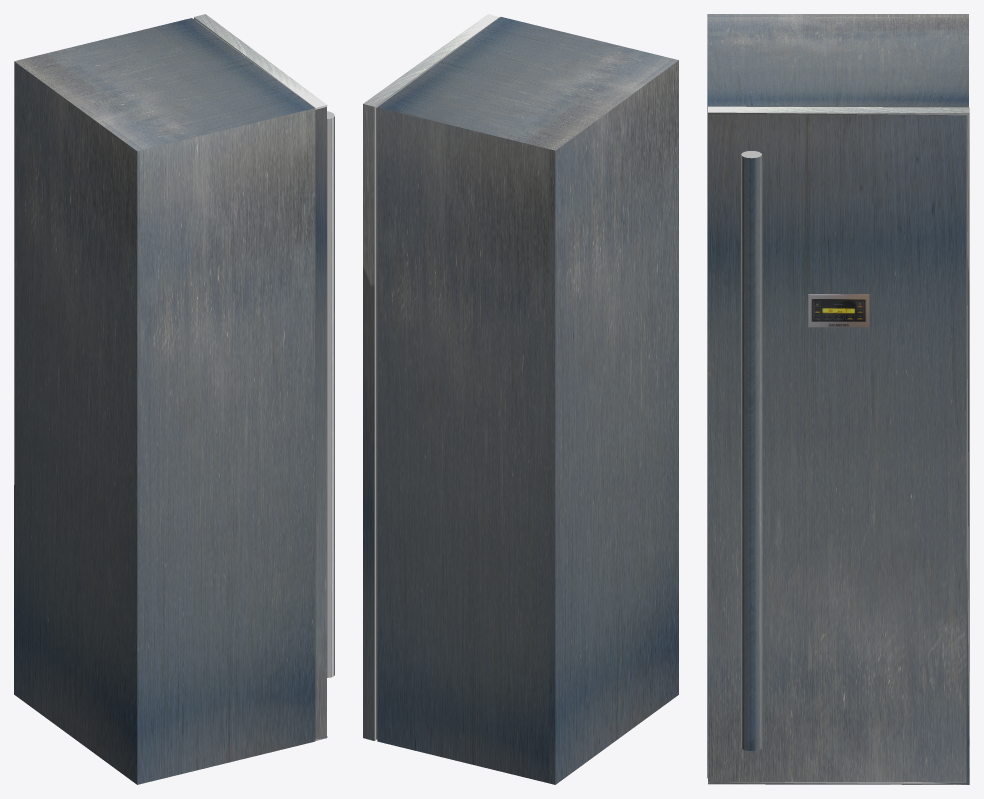
3 views of the same model, side by side, from view 1: azimuth 30°, elevation 25°; view 2: azimuth 150°, elevation 25°; view 3: azimuth 270°, elevation 25° (orthographic). The views are drawn at different scales.
Parts seen in each view (by area): view 1: Kueche_Fridge_Side, Kueche_Fridge_Front, Kueche_Fridge_Gripper2, Kueche_Fridge_Gripper1, Kueche_Fridge_Blindings2; view 2: Kueche_Fridge_Side, Kueche_Fridge_Front, Kueche_Fridge_Blindings2, Kueche_Fridge_Blindings3; view 3: Kueche_Fridge_Front, Kueche_Fridge_Side, Kueche_Fridge_Gripper1, Kueche_Fridge_Display, Kueche_Fridge_Blindings1.
Part boxes in pixels (<box>): Kueche_Fridge_Side: <box>14,18,315,784</box>; Kueche_Fridge_Front: <box>194,14,327,740</box>; Kueche_Fridge_Gripper2: <box>327,111,334,677</box>; Kueche_Fridge_Gripper1: <box>331,116,334,677</box>; Kueche_Fridge_Blindings2: <box>194,17,315,738</box>; Kueche_Fridge_Side: <box>377,17,678,784</box>; Kueche_Fridge_Front: <box>363,14,499,740</box>; Kueche_Fridge_Blindings2: <box>374,17,499,740</box>; Kueche_Fridge_Blindings3: <box>376,22,492,739</box>; Kueche_Fridge_Front: <box>708,106,969,784</box>; Kueche_Fridge_Side: <box>707,14,968,778</box>; Kueche_Fridge_Gripper1: <box>741,155,762,750</box>; Kueche_Fridge_Display: <box>808,294,869,327</box>; Kueche_Fridge_Blindings1: <box>714,112,969,784</box>.
Bounding box in the file's own units: 0.8423 × 2.35 × 0.8323.
9 materials, 4 textured.
